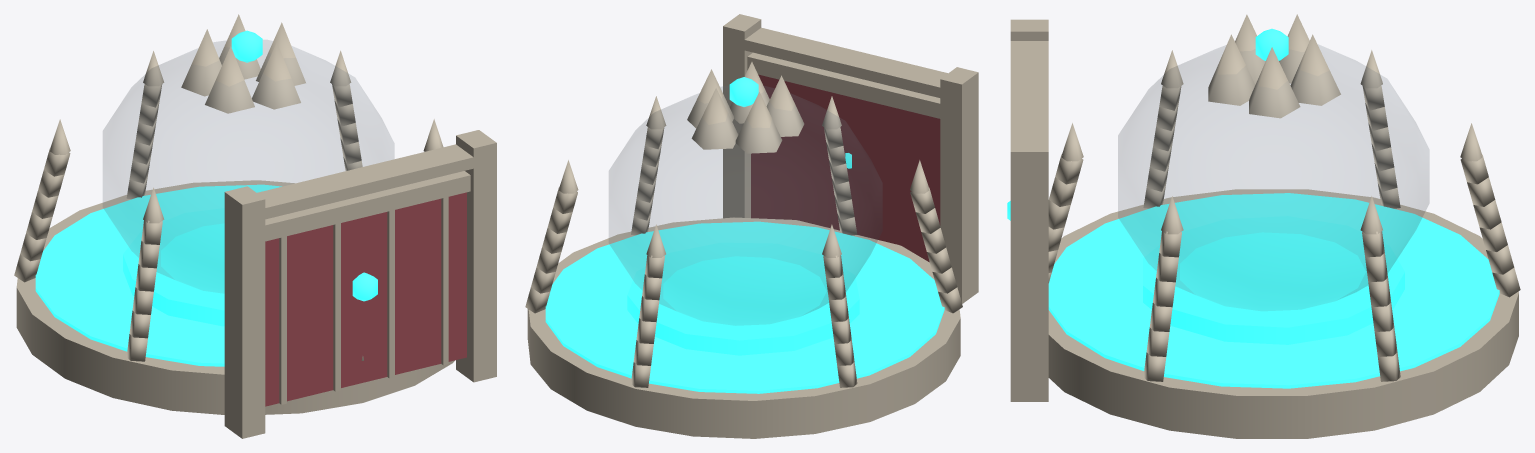
File: MonsterHub_VEX_Hatchery.glb
3 views of the same model, side by side, from view 1: azimuth 30°, elevation 25°; view 2: azimuth 150°, elevation 25°; view 3: azimuth 270°, elevation 25° (orthographic). The views are drawn at different scales.
Visible parts, largest first — view 1: MonsterHub_VEX_Hatchery, MonsterHub_VEX_Hatchery_Gate; view 2: MonsterHub_VEX_Hatchery, MonsterHub_VEX_Hatchery_Gate; view 3: MonsterHub_VEX_Hatchery.
Boxes of the visible parts, bbox=[...] form: MonsterHub_VEX_Hatchery: bbox=[14, 14, 496, 438]; MonsterHub_VEX_Hatchery_Gate: bbox=[265, 171, 470, 406]; MonsterHub_VEX_Hatchery: bbox=[525, 14, 978, 438]; MonsterHub_VEX_Hatchery_Gate: bbox=[747, 52, 940, 262]; MonsterHub_VEX_Hatchery: bbox=[1010, 14, 1520, 438].
Size of the model in its own units: 5.15 by 3.56 by 5.4.
